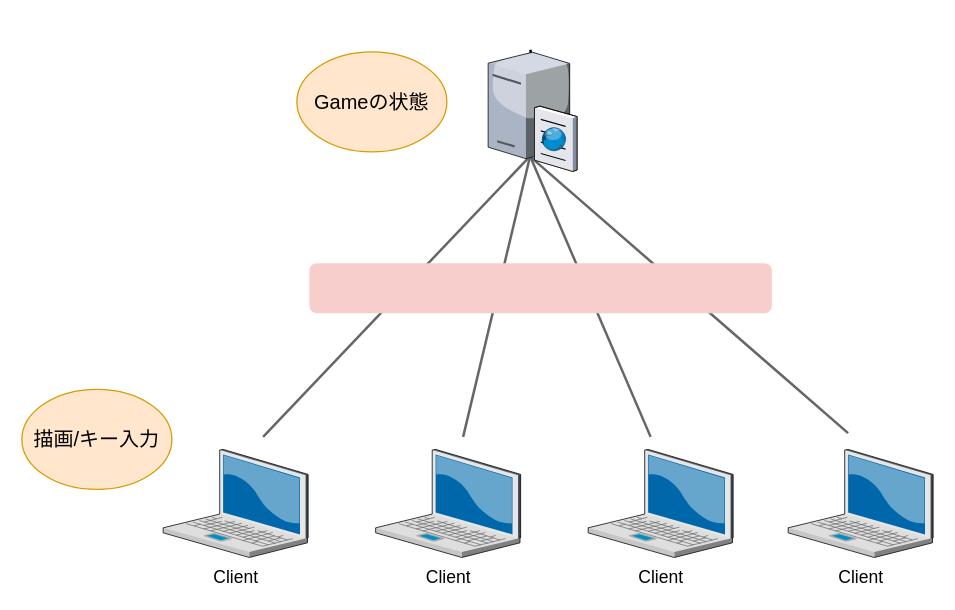
This 955x610 diagram has some shape labels left out. The shapes that lost their labels are listed below. From the top down, each one's centre as x and y in pixels, then its label:
At point 532,110: "Web Server".
At point 540,287: "Websocket".
